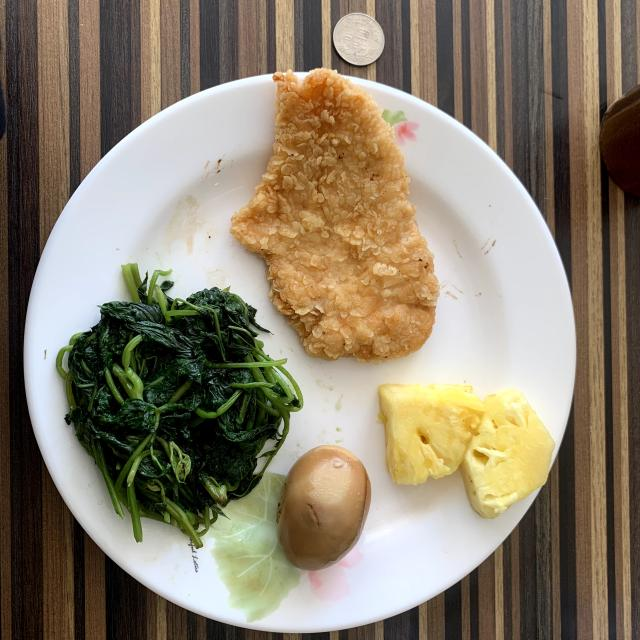coin: (332, 12, 385, 65)
fried chicken cutlet: (231, 69, 439, 362)
pineapple: (379, 384, 555, 519)
soy egg: (276, 445, 371, 571)
sweet potato leaves: (56, 264, 302, 548)
